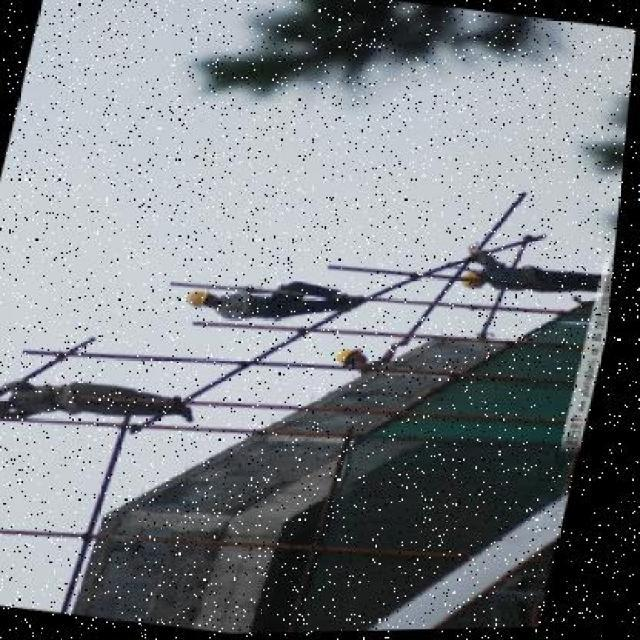helmet: (338, 345, 382, 372), (462, 270, 492, 295), (189, 286, 213, 306)
